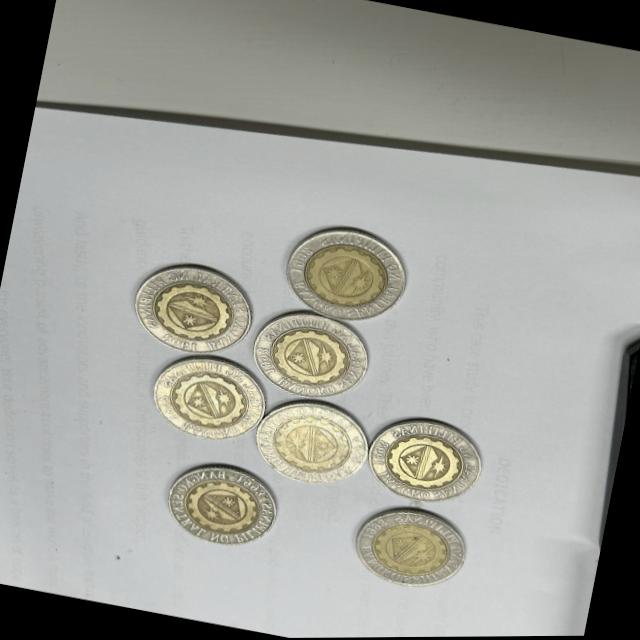10_Old_Back: (278, 219, 411, 325), (245, 309, 372, 403), (135, 262, 254, 356), (353, 502, 476, 592), (160, 460, 281, 551), (144, 352, 267, 441), (256, 401, 372, 493), (364, 419, 484, 503)
